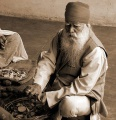male: (63, 14, 90, 50)
